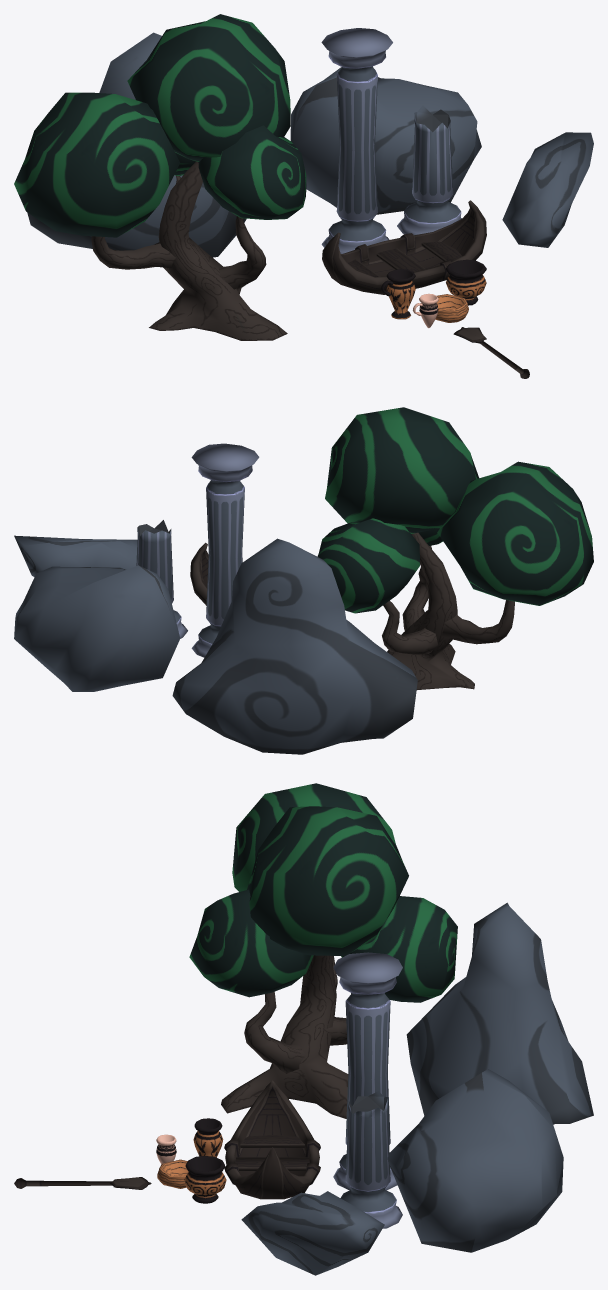
File: assets_test1.fbx
3 renders of one model, top to bottom at view 1: azimuth 30°, elevation 25°; view 2: azimuth 150°, elevation 25°; view 3: azimuth 270°, elevation 25°, orthographic. The views are drawn at different scales.
Parts seen in each view (by area): view 1: boat; view 2: boat; view 3: boat.
Part boxes in pixels (<box>): boat: <box>14,14,593,378</box>; boat: <box>14,407,593,754</box>; boat: <box>14,783,593,1275</box>.
Bounding box in the file's own units: 1163 × 541 × 966.
1 material, 1 textured.
